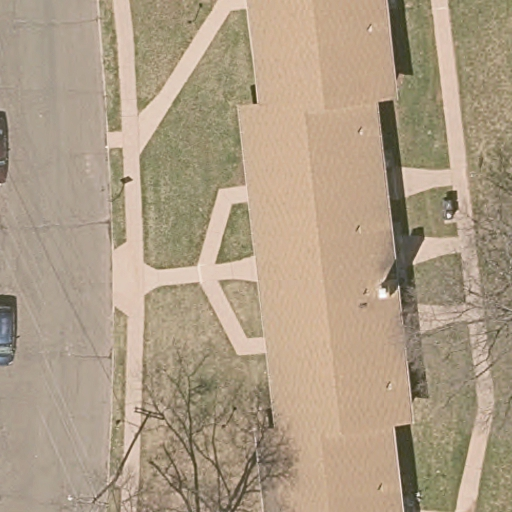DT: (67, 476, 123, 512)
